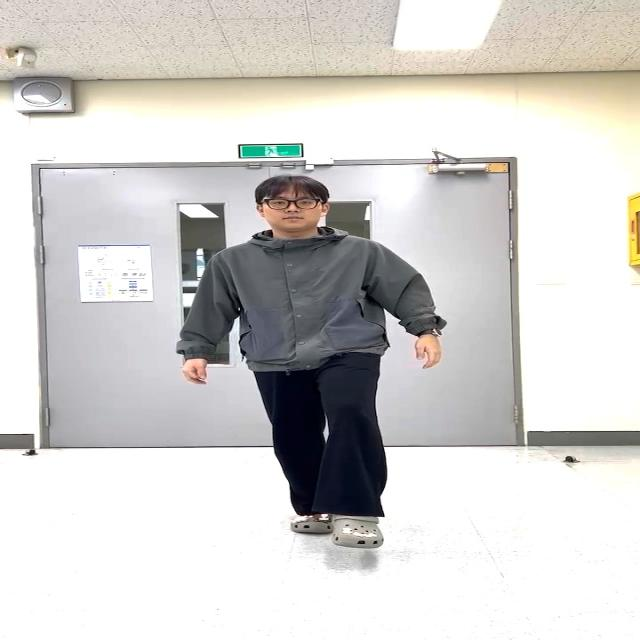leg: (313, 348, 400, 560)
